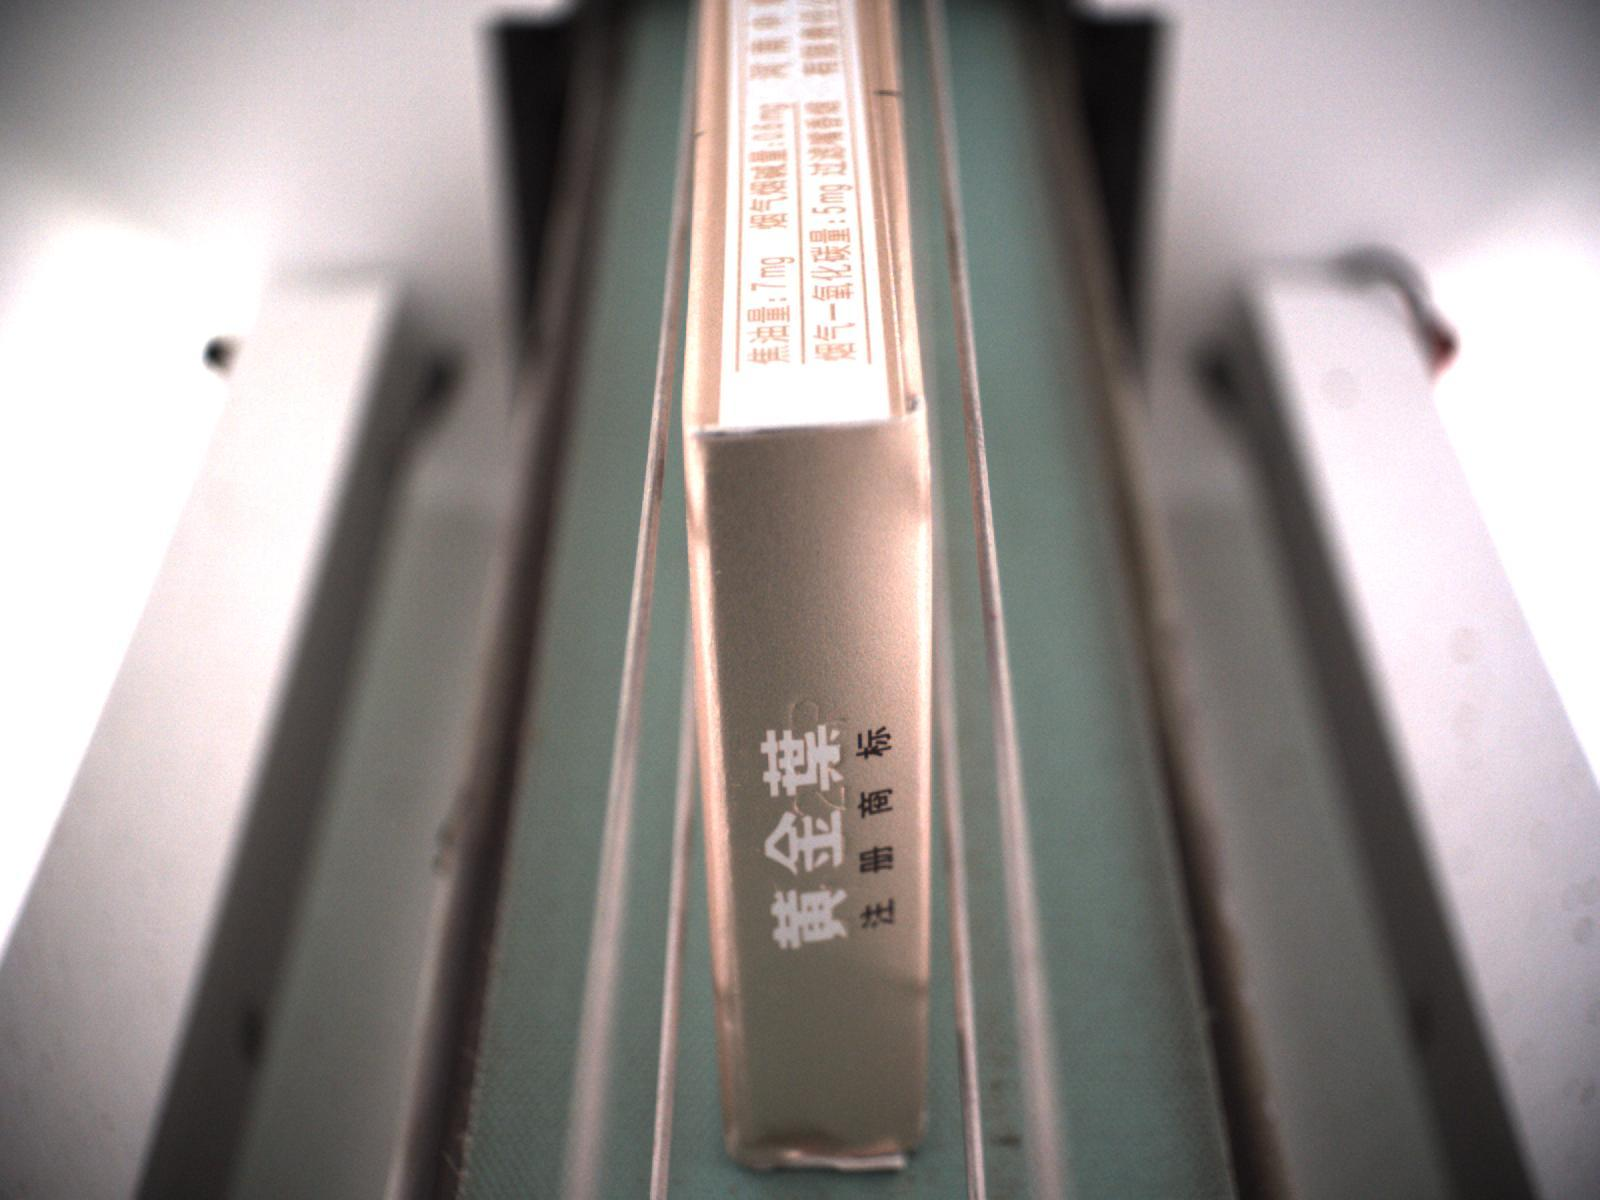skewed_bottom_3: (729, 1133, 921, 1175)
skewed_upper_3: (860, 1, 930, 430)
